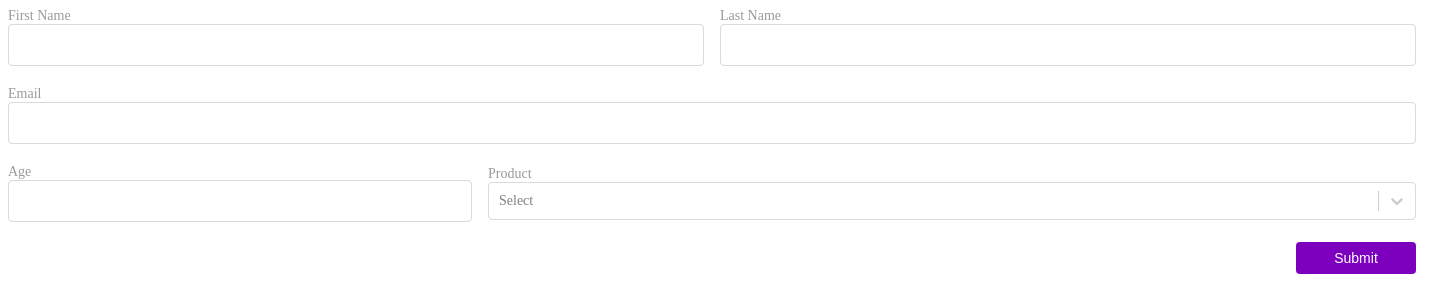
Test case: Testing a product insurance sales form component › Should not submit form, with empty values and will throw required validation error
Double-click the button with test id "form-action-button": coordinates (1356, 258) [1296,242,1416,274]
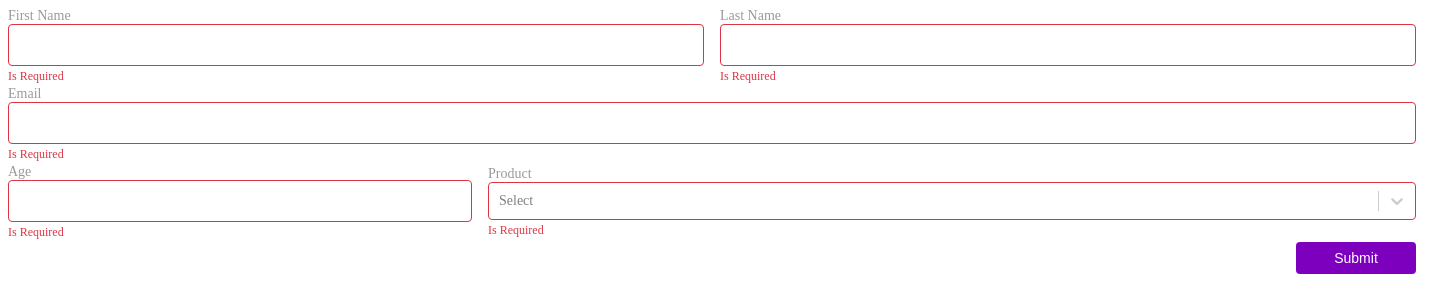
Result: the text with test id "first_name-error" is shown at [8,69,64,83]
Result: the text with test id "age-error" is shown at [8,225,64,239]
Result: the text with test id "email-error" is shown at [8,147,64,161]
